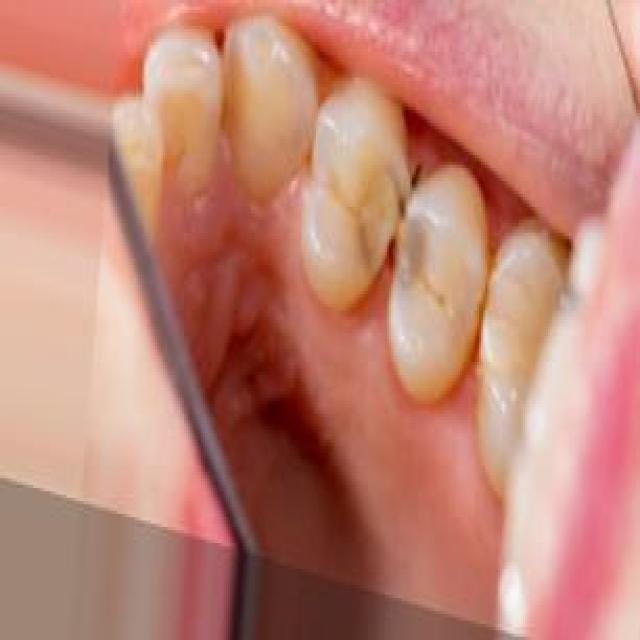caries: (340, 158, 438, 300)
